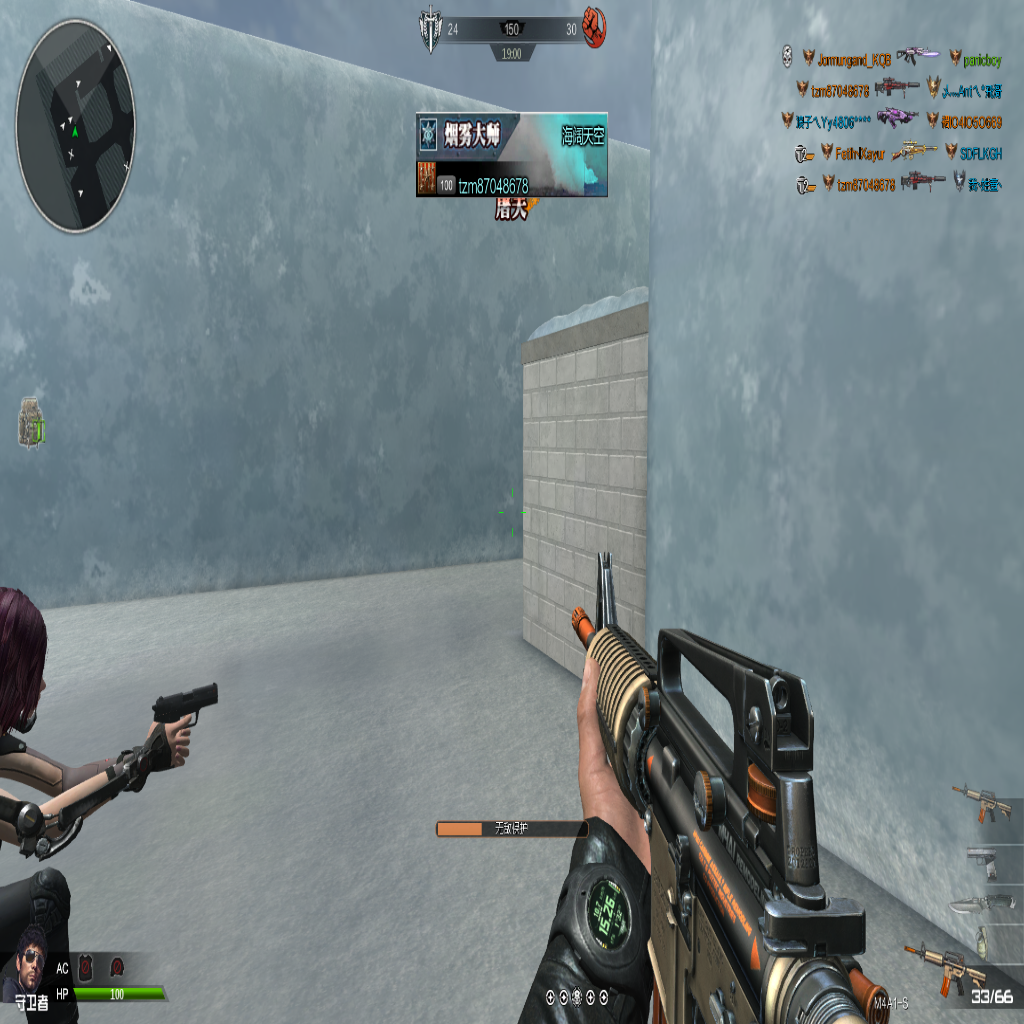ct: (6, 577, 209, 874)
